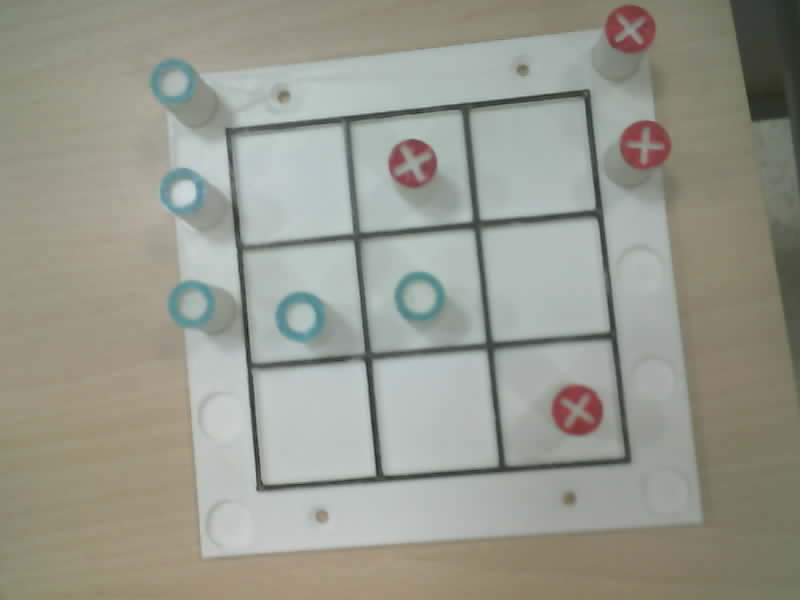blue circle: (275, 292, 324, 341), (395, 272, 444, 320), (149, 58, 196, 104), (168, 281, 215, 327), (160, 168, 205, 215)
board: (169, 31, 700, 555)
cells: (496, 340, 624, 465), (482, 217, 609, 340), (373, 351, 497, 474), (470, 97, 595, 219), (252, 361, 374, 485), (361, 230, 484, 351), (351, 111, 471, 231), (243, 242, 363, 362), (232, 124, 352, 243)
grid: (226, 90, 630, 490)
red cross: (552, 385, 602, 434), (620, 120, 671, 168), (605, 5, 655, 52), (388, 139, 436, 187)
